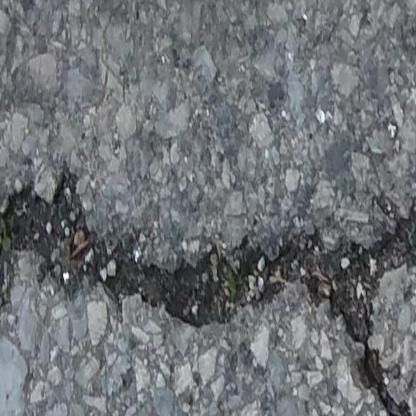Cracks: (0, 168, 416, 416)
